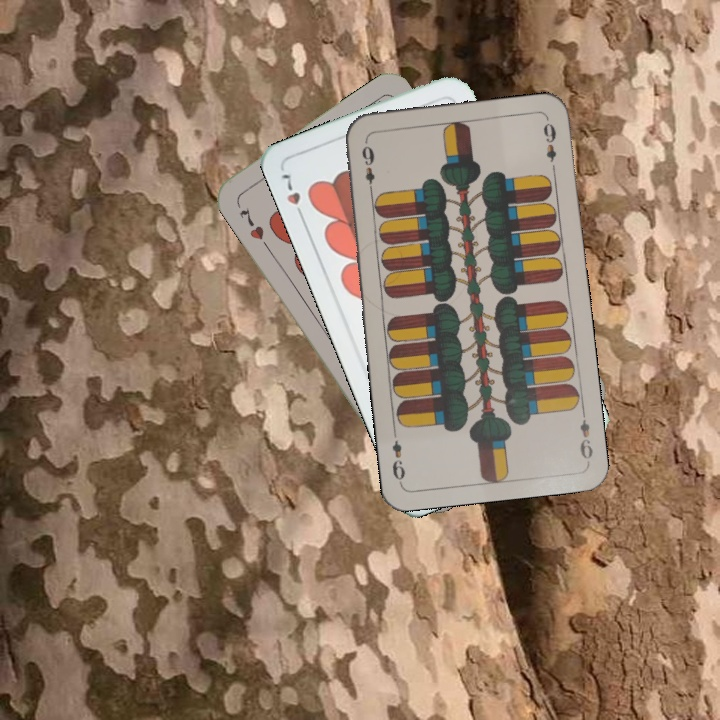E9: (575, 405, 595, 465), (358, 137, 377, 197)
H7: (277, 169, 308, 223), (235, 205, 267, 242)
